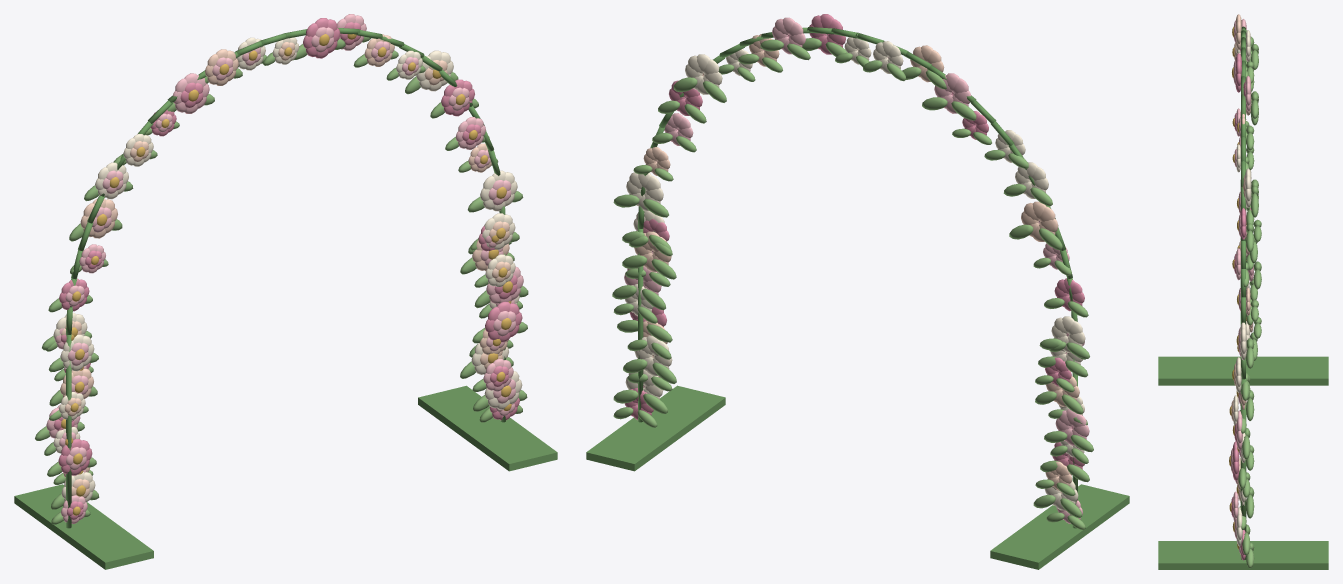
Rendered from backdrop-floral-arch.glb.
The picture shows the model from 3 angles, left to right: view 1: azimuth 30°, elevation 25°; view 2: azimuth 150°, elevation 25°; view 3: azimuth 270°, elevation 25°; orthographic projection. The views are drawn at different scales.
Parts seen in each view (by area): view 1: BS_FloralFootR, BS_FloralFootL, BS_FloralPost.001; view 2: BS_FloralFootR, BS_FloralFootL; view 3: BS_FloralFootL, BS_FloralFootR, BS_FloralPost.
Part boxes in pixels (x1,y1,x2,y2): BS_FloralFootR: (418, 385, 557, 471); BS_FloralFootL: (14, 484, 153, 569); BS_FloralPost.001: (66, 334, 71, 528); BS_FloralFootR: (586, 385, 725, 471); BS_FloralFootL: (990, 484, 1129, 569); BS_FloralFootL: (1158, 356, 1328, 385); BS_FloralFootR: (1158, 541, 1328, 569); BS_FloralPost: (1240, 378, 1246, 559).
Bounding box in the file's own units: 2.78 × 2.49 × 0.9.
